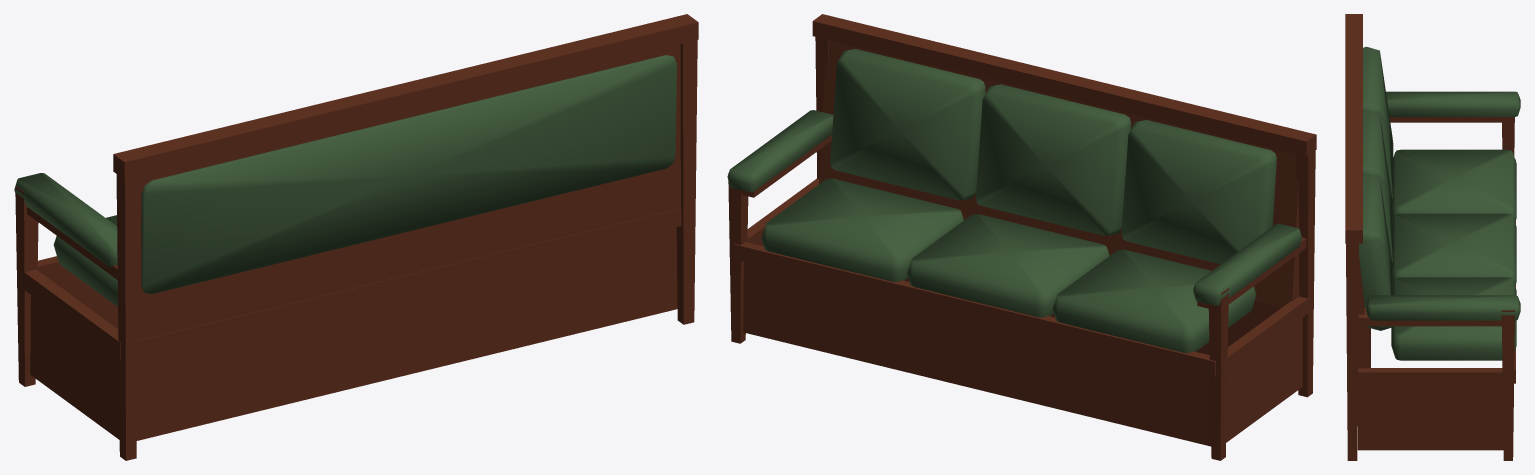
The model's file is parametric-settee-1st.glb.
3 renders of one model, left to right at view 1: azimuth 30°, elevation 25°; view 2: azimuth 150°, elevation 25°; view 3: azimuth 270°, elevation 25°, orthographic. The views are drawn at different scales.
Parts seen in each view (by area): view 1: parametric-settee-1st; view 2: parametric-settee-1st; view 3: parametric-settee-1st.
Boxes of the visible parts, x1,y1,x2,y2 form: parametric-settee-1st: (14, 14, 698, 460); parametric-settee-1st: (727, 14, 1316, 460); parametric-settee-1st: (1345, 14, 1520, 460).
Bounding box in the file's own units: 1.9 × 0.95 × 0.65.
